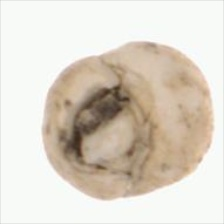L3: (66, 83, 150, 177)
L4: (41, 41, 214, 201)
